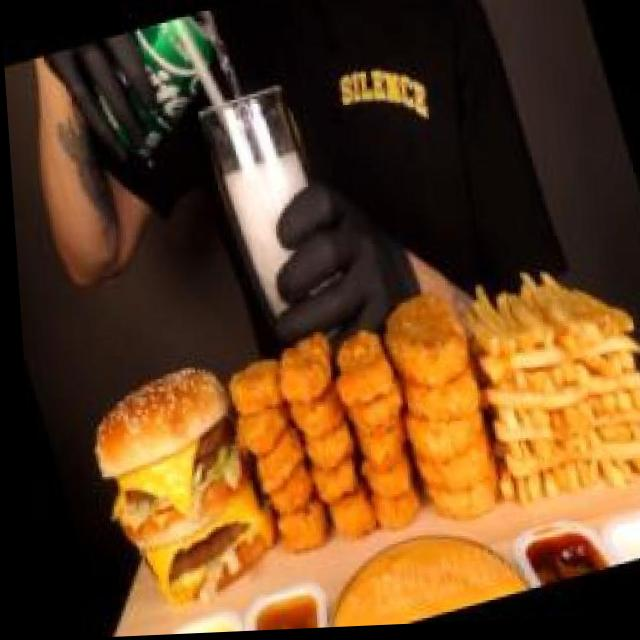Hashbrown: (355, 261, 514, 546)
burger: (63, 341, 281, 626)
french fries: (439, 238, 640, 528)
nugget: (205, 306, 438, 573)
sprite: (129, 0, 294, 211)
